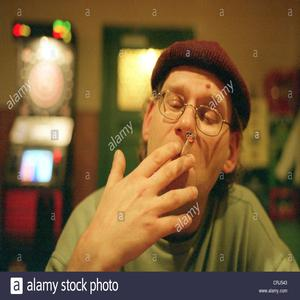cigarette: (180, 133, 196, 157)
